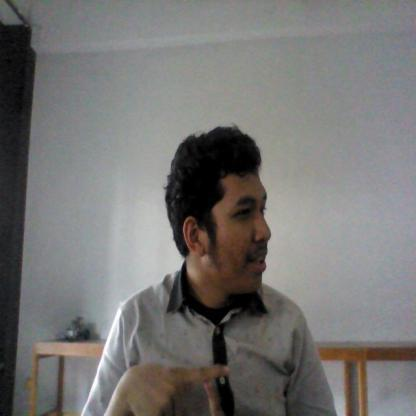T: (121, 360, 251, 416)
